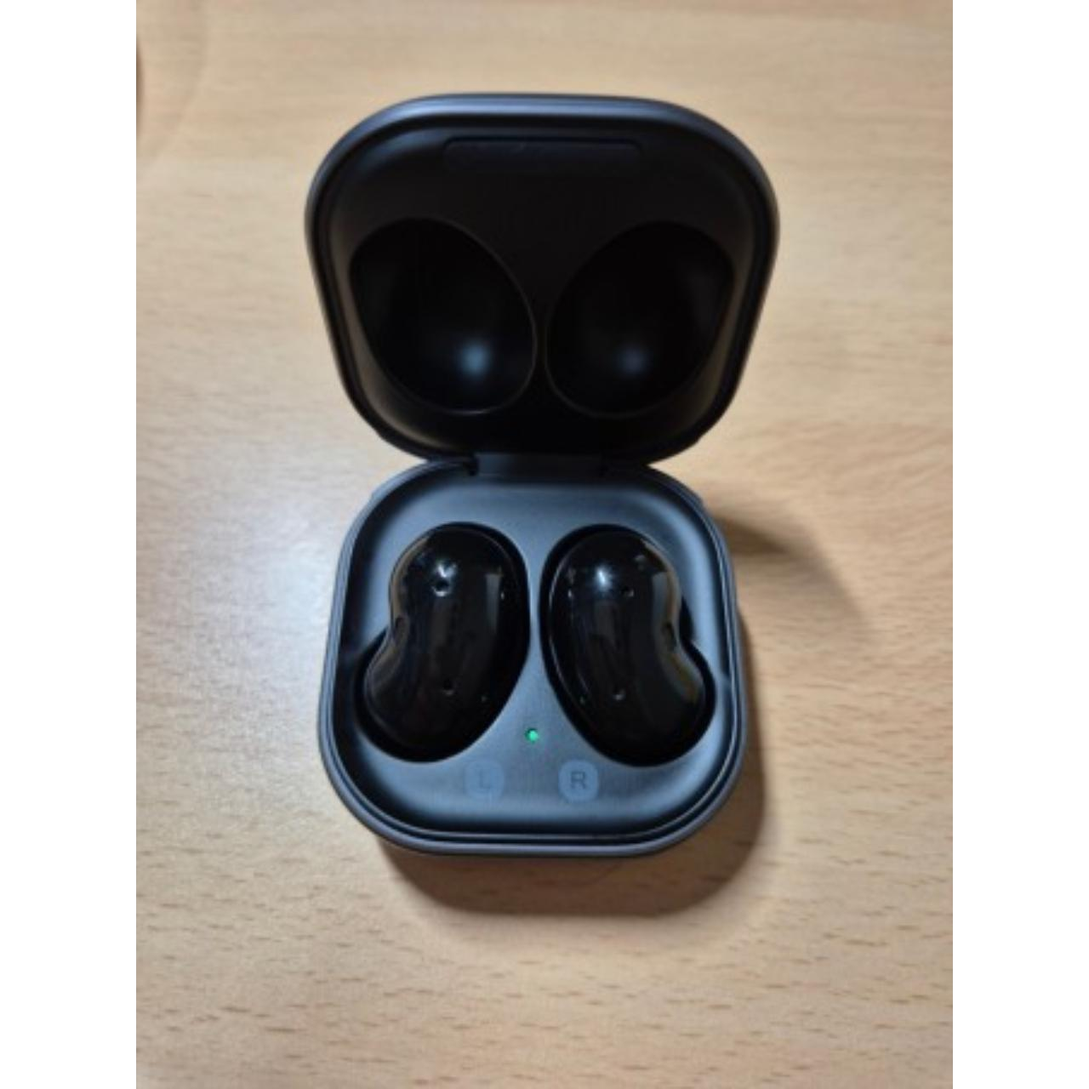Buds: (294, 84, 783, 867)
Buds_Units: (535, 517, 723, 771), (347, 517, 535, 769)
